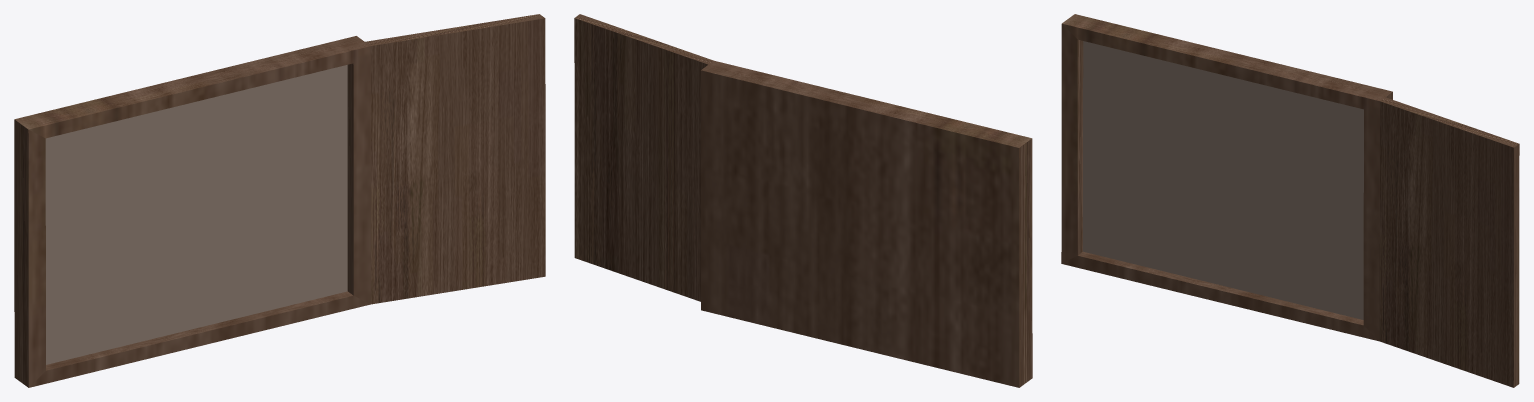
The model's file is Cuadro_4x3.fbx.
3 renders of one model, left to right at view 1: azimuth 30°, elevation 25°; view 2: azimuth 150°, elevation 25°; view 3: azimuth 330°, elevation 25°, orthographic. The views are drawn at different scales.
Parts seen in each view (by area): view 1: Cuadro_3x2; view 2: Cuadro_3x2; view 3: Cuadro_3x2.
Boxes of the visible parts, x1,y1,x2,y2 form: Cuadro_3x2: (14,14,545,387); Cuadro_3x2: (574,14,1032,387); Cuadro_3x2: (1061,14,1519,387).
Bounding box in the file's own units: 7000 × 3444 × 717.
1 material, 1 textured.
